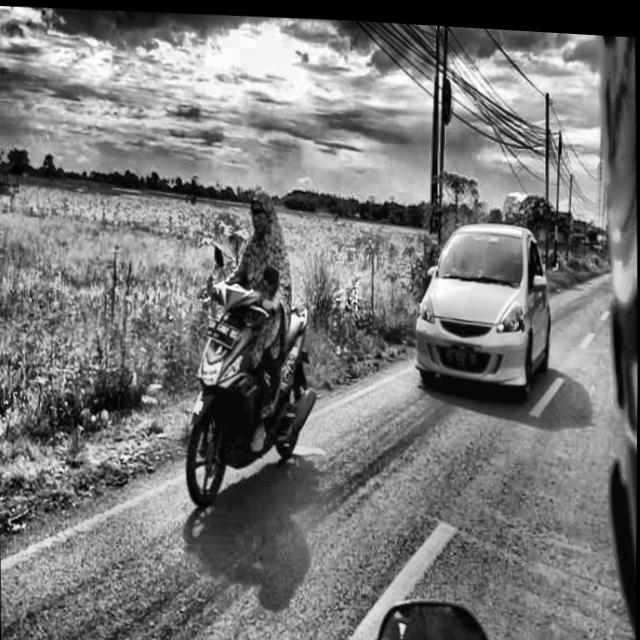motorcycle: (168, 264, 352, 514)
